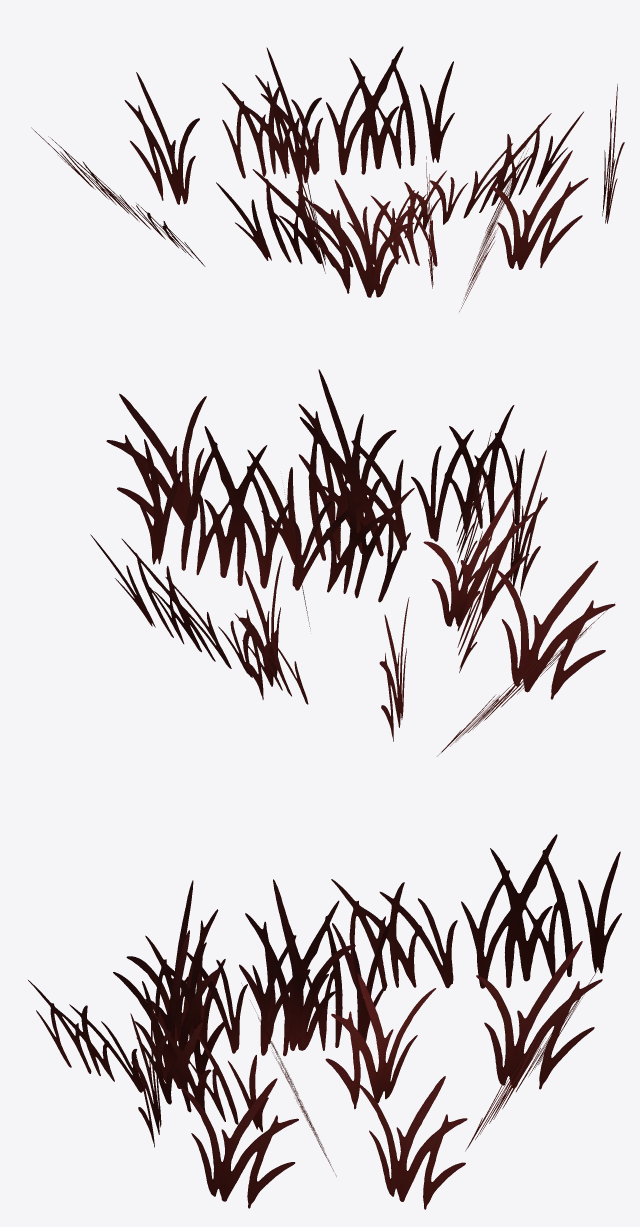
3 renders of one model, top to bottom at view 1: azimuth 30°, elevation 25°; view 2: azimuth 150°, elevation 25°; view 3: azimuth 270°, elevation 25°, orthographic. The views are drawn at different scales.
Parts seen in each view (by area): view 1: SM_WT_GrassShort_02_LOD0; view 2: SM_WT_GrassShort_02_LOD0; view 3: SM_WT_GrassShort_02_LOD0.
Boxes of the visible parts, x1,y1,x2,y2 form: SM_WT_GrassShort_02_LOD0: (31, 46, 624, 311); SM_WT_GrassShort_02_LOD0: (90, 369, 615, 756); SM_WT_GrassShort_02_LOD0: (28, 834, 621, 1209).
Bounding box in the file's own units: 0.9354 × 0.3082 × 0.8525.
Materials: 1 (1 with a texture image).
